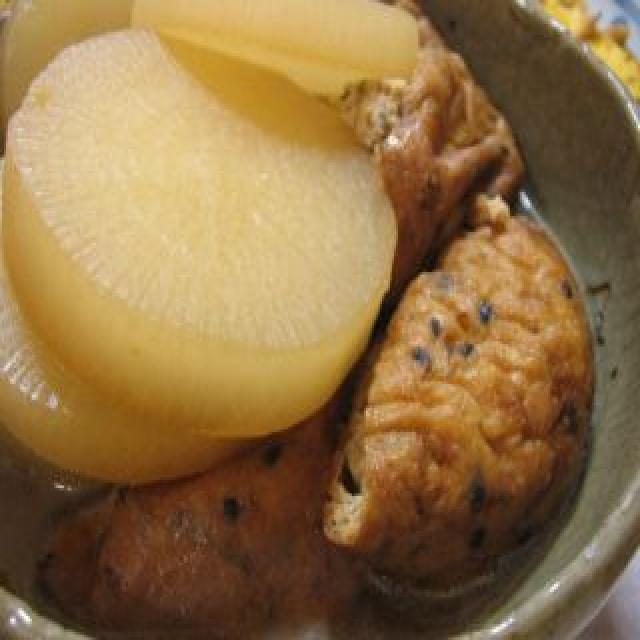熟制海鲜: (0, 5, 596, 603)
